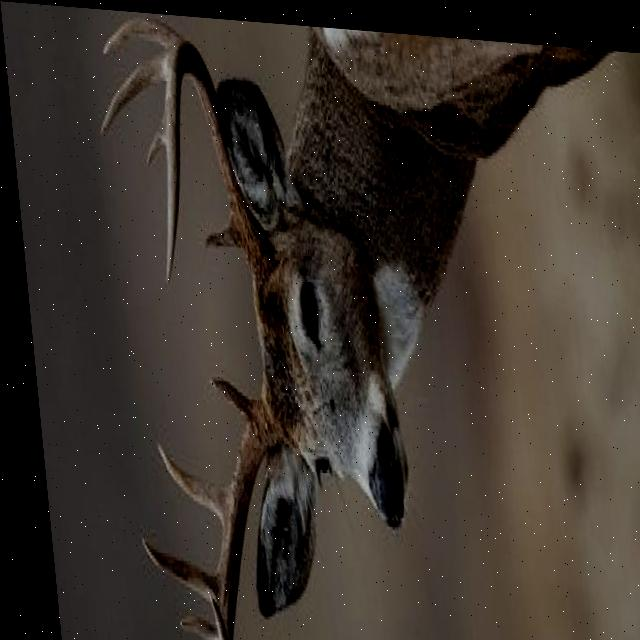L-F: (160, 35, 270, 284)
L-G1: (199, 206, 242, 247)
L-G2: (101, 14, 181, 56)
L-G3: (96, 49, 170, 137)
L-G4: (143, 110, 163, 167)
R-F: (196, 388, 274, 640)
R-G1: (201, 373, 249, 416)
R-G2: (148, 438, 222, 526)
R-G4: (166, 611, 206, 640)
